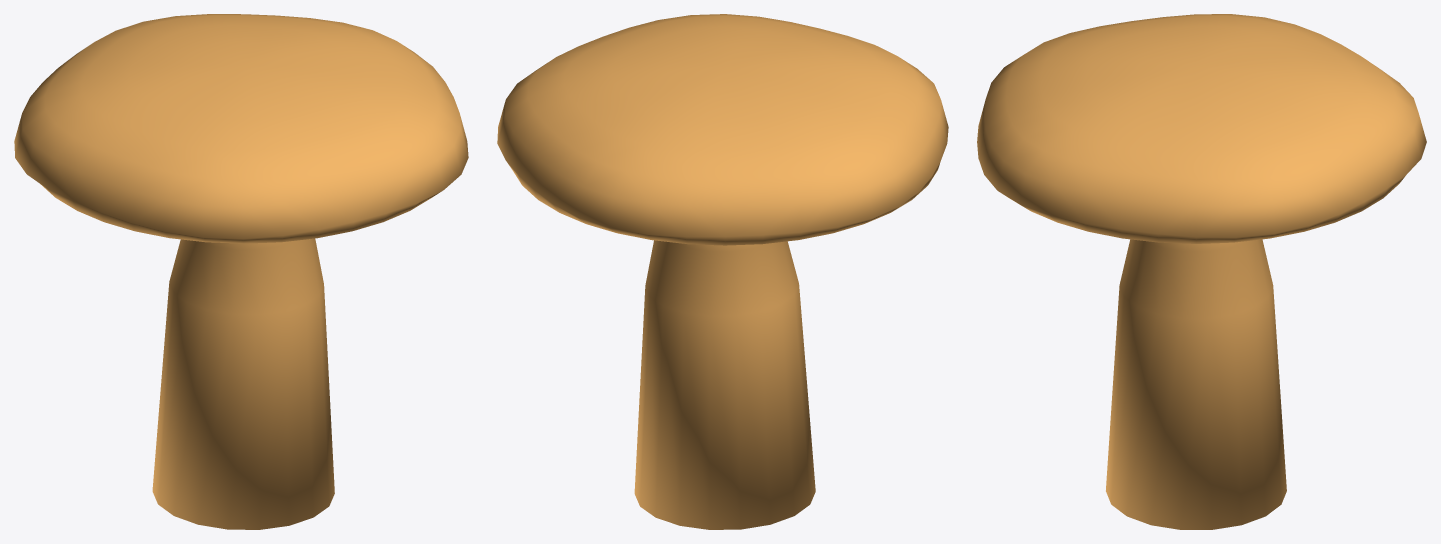
Rendered from mushroom_bounce_v2.glb.
3 views of the same model, side by side, from view 1: azimuth 30°, elevation 25°; view 2: azimuth 150°, elevation 25°; view 3: azimuth 270°, elevation 25° (orthographic).
Parts seen in each view (by area): view 1: SM_Forest_MushroomBounce_V2; view 2: SM_Forest_MushroomBounce_V2; view 3: SM_Forest_MushroomBounce_V2.
Part boxes in pixels (left/top/right/bottom): SM_Forest_MushroomBounce_V2: left=14, top=14, right=468, bottom=529; SM_Forest_MushroomBounce_V2: left=497, top=14, right=948, bottom=529; SM_Forest_MushroomBounce_V2: left=977, top=14, right=1426, bottom=529.
Bounding box in the file's own units: 2.37 × 2.47 × 2.36.
